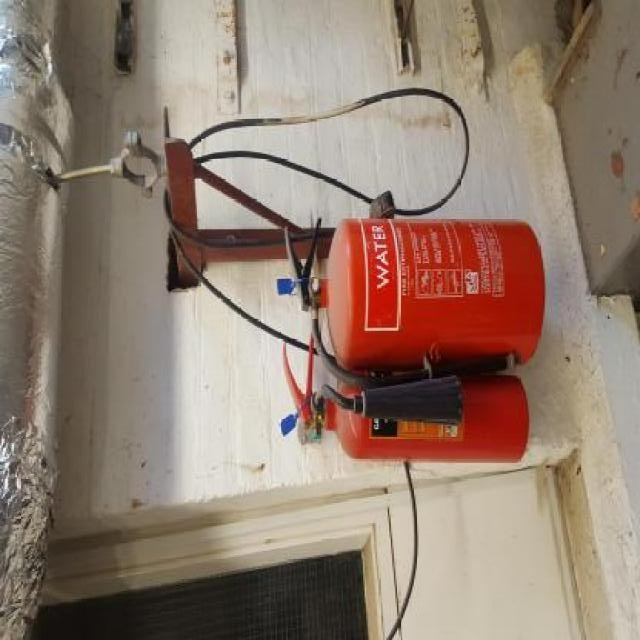fire extinguisher: (282, 217, 546, 388), (282, 329, 530, 465)
